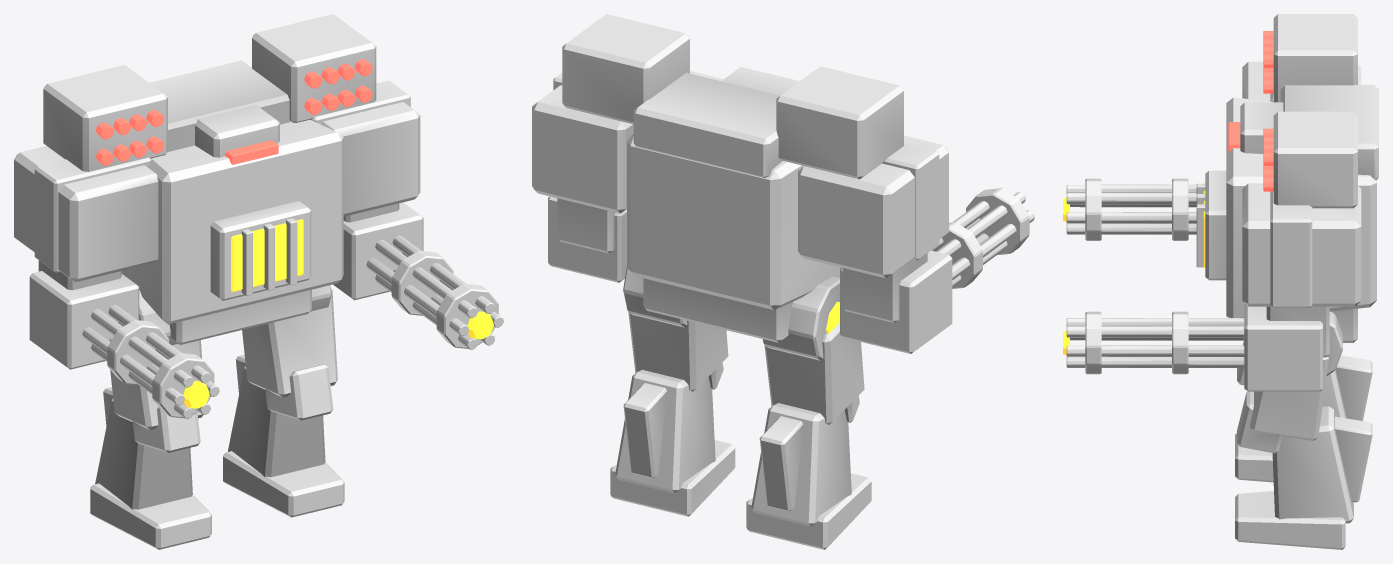
File: e5_iron_goliath.glb
3 renders of one model, left to right at view 1: azimuth 30°, elevation 25°; view 2: azimuth 150°, elevation 25°; view 3: azimuth 270°, elevation 25°, orthographic. The views are drawn at different scales.
Parts seen in each view (by area): view 1: TorsoHull, Pauldron_L, RktBox_L, RktBox_R, Pauldron_R, ArmCannon_L_Housing, CollarGuard, Leg_L1_Greave, Leg_R1_Greave, Leg_R1_Thigh, Leg_L1_Foot, Leg_R1_Foot (+25 smaller); view 2: TorsoHull, Pauldron_L, RktBox_L, CollarGuard, RktBox_R, Pauldron_R, Leg_R1_Greave, Leg_L1_Greave, ArmCannon_L_Housing, Leg_L1_Thigh, Leg_R1_Thigh, Pelvis (+15 smaller); view 3: Pauldron_R, RktBox_R, TorsoHull, Leg_R1_Greave, RktBox_L, ArmCannon_R_Housing, PauldronStripe_R, Leg_R1_Foot, CollarGuard, Leg_R1_Thigh, FurnaceFrame, Leg_R1_CalfFin (+23 smaller).
Part boxes in pixels (x1=…): TorsoHull: x1=121, y1=119, x2=343, y2=324; Pauldron_L: x1=14, y1=146, x2=158, y2=282; RktBox_L: x1=43, y1=65, x2=167, y2=171; RktBox_R: x1=252, y1=14, x2=376, y2=122; Pauldron_R: x1=321, y1=82, x2=420, y2=216; ArmCannon_L_Housing: x1=29, y1=271, x2=139, y2=369; CollarGuard: x1=150, y1=60, x2=290, y2=151; Leg_L1_Greave: x1=95, y1=398, x2=192, y2=509; Leg_R1_Greave: x1=227, y1=365, x2=325, y2=477; Leg_R1_Thigh: x1=242, y1=288, x2=337, y2=397; Leg_L1_Foot: x1=90, y1=483, x2=211, y2=549; Leg_R1_Foot: x1=223, y1=451, x2=344, y2=517; TorsoHull: x1=627, y1=71, x2=840, y2=310; Pauldron_L: x1=798, y1=135, x2=948, y2=278; RktBox_L: x1=776, y1=66, x2=903, y2=179; CollarGuard: x1=633, y1=72, x2=782, y2=177; RktBox_R: x1=562, y1=14, x2=689, y2=124; Pauldron_R: x1=532, y1=85, x2=633, y2=213; Leg_R1_Greave: x1=615, y1=369, x2=715, y2=493; Leg_L1_Greave: x1=751, y1=403, x2=851, y2=526; ArmCannon_L_Housing: x1=840, y1=250, x2=952, y2=353; Leg_L1_Thigh: x1=764, y1=322, x2=864, y2=424; Leg_R1_Thigh: x1=628, y1=312, x2=728, y2=391; Pelvis: x1=643, y1=278, x2=793, y2=342; Pauldron_R: x1=1242, y1=183, x2=1361, y2=306; RktBox_R: x1=1273, y1=111, x2=1357, y2=208; TorsoHull: x1=1226, y1=97, x2=1376, y2=317; Leg_R1_Greave: x1=1272, y1=406, x2=1353, y2=523; RktBox_L: x1=1273, y1=14, x2=1357, y2=102; ArmCannon_R_Housing: x1=1244, y1=303, x2=1322, y2=391; PauldronStripe_R: x1=1270, y1=191, x2=1312, y2=307; Leg_R1_Foot: x1=1235, y1=491, x2=1345, y2=549; CollarGuard: x1=1280, y1=85, x2=1378, y2=179; Leg_R1_Thigh: x1=1250, y1=356, x2=1328, y2=440; FurnaceFrame: x1=1205, y1=170, x2=1226, y2=280; Leg_R1_CalfFin: x1=1334, y1=416, x2=1372, y2=502.
Bounding box in the file's own units: 2.64 × 3.1 × 2.11.
